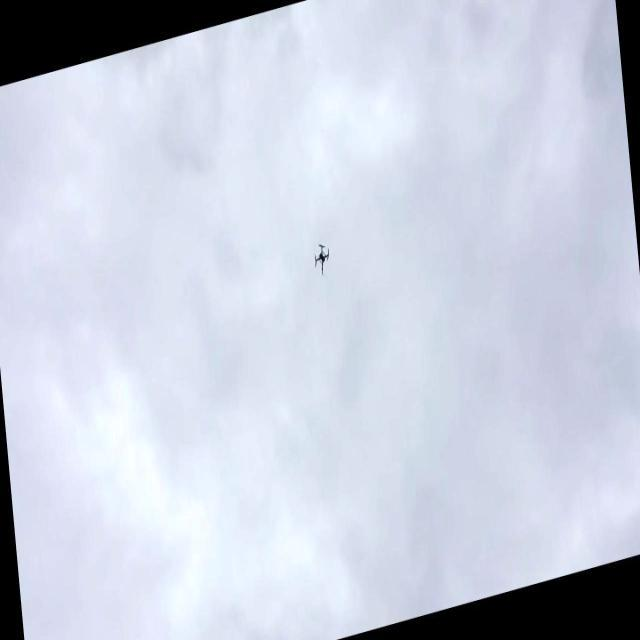drone: (310, 232, 334, 276)
